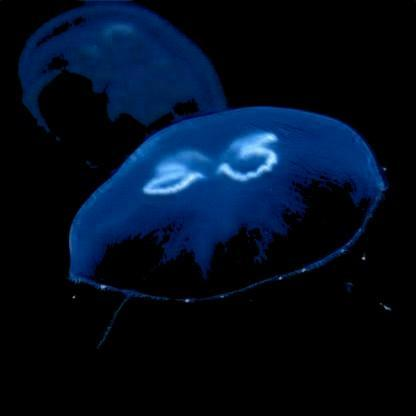Speckle: (62, 109, 400, 375), (13, 4, 231, 194)
